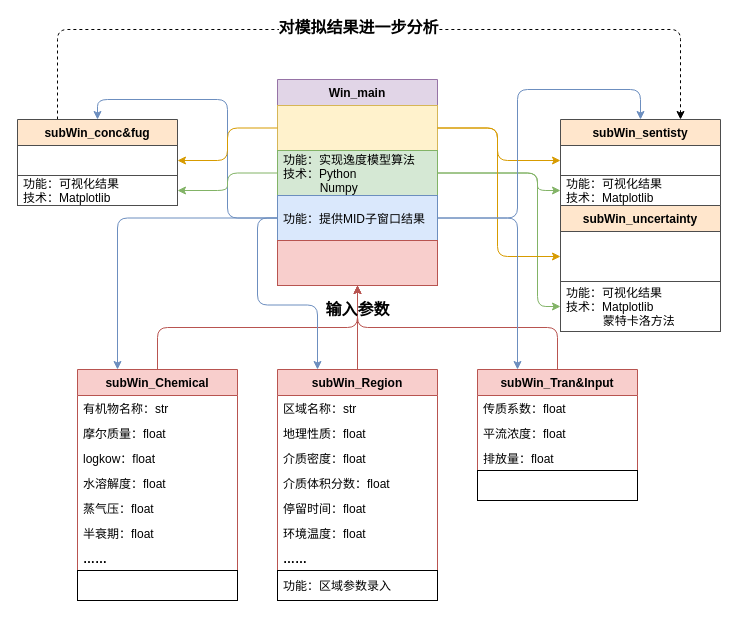
The diagram is 738 pixels wide and 618 high, and some of its shapes have lost their labels. Each missing label, with the centre of its shape:
"功能：传质和输入参数录入" belongs at (x=557, y=485).
"功能：接收输入参数" belongs at (x=357, y=263).
"功能：显示灵敏度分析" belongs at (x=640, y=160).
"功能：显示蒙特卡洛 模拟结果" belongs at (x=640, y=256).
"功能：显示计算结果" belongs at (x=97, y=160).
"功能：有机物理化参数录入" belongs at (x=157, y=585).
"功能：模拟结果显示" belongs at (x=357, y=127).
